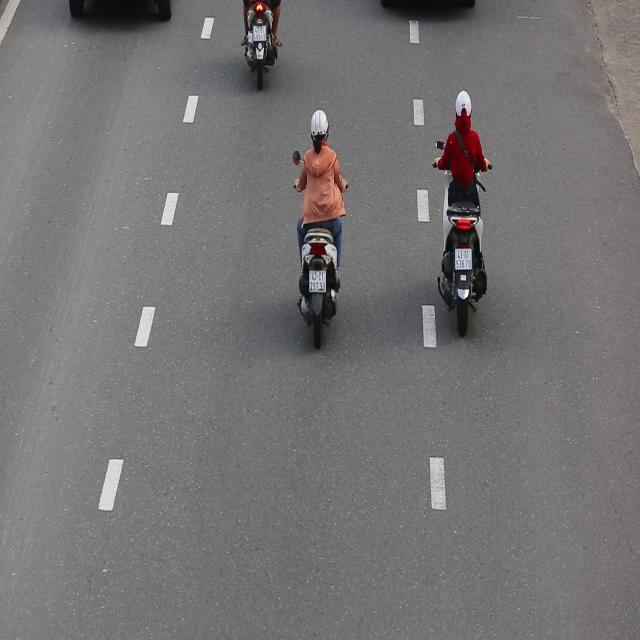motorbike: (427, 85, 496, 341), (288, 98, 354, 356)
